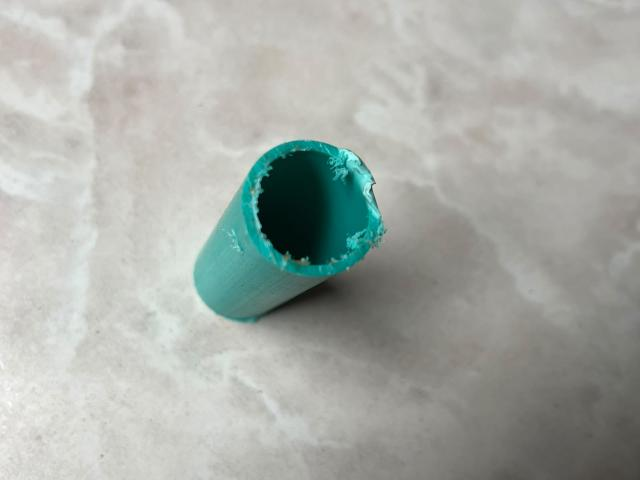PVC: (177, 126, 396, 371)
